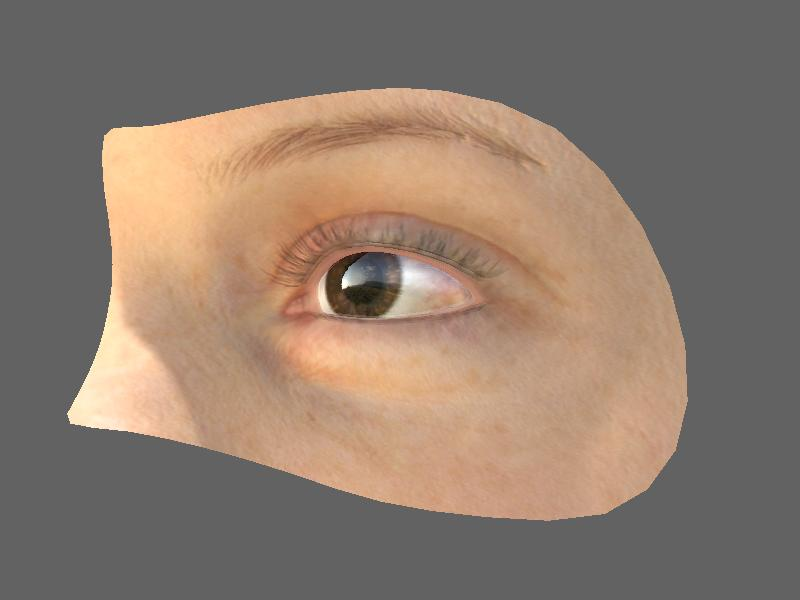iris: (319, 250, 404, 320)
